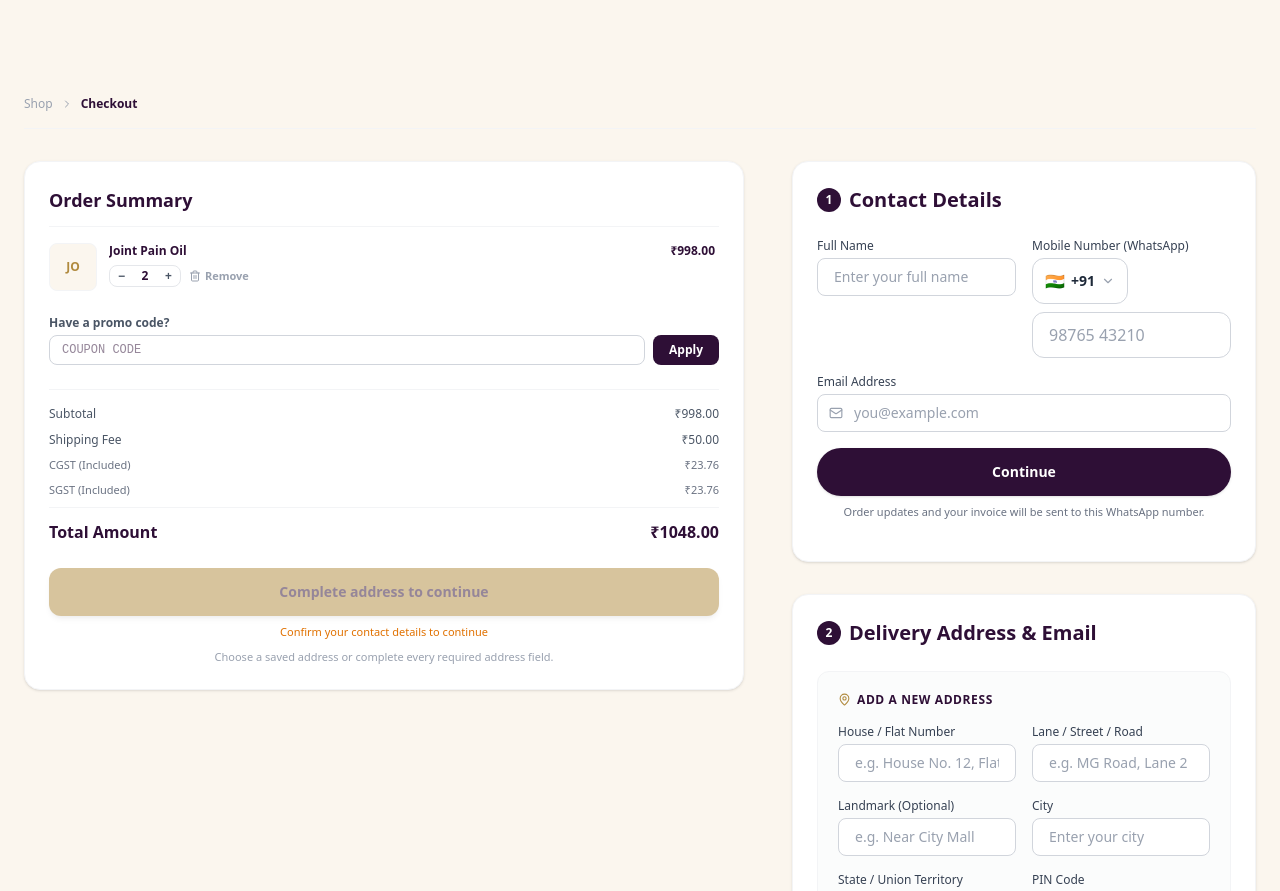
checkout — contact step verifies the number with a WhatsApp OTP › shows the server message when OTP verify fails
This screenshot has width=1280, height=891.
Expected: the button "Continue" is shown, [817,448,1231,496]
Type "Atharva Bhargava" into the field with placeholder "Enter your full name" at x=916, y=277, box [817,258,1016,296]
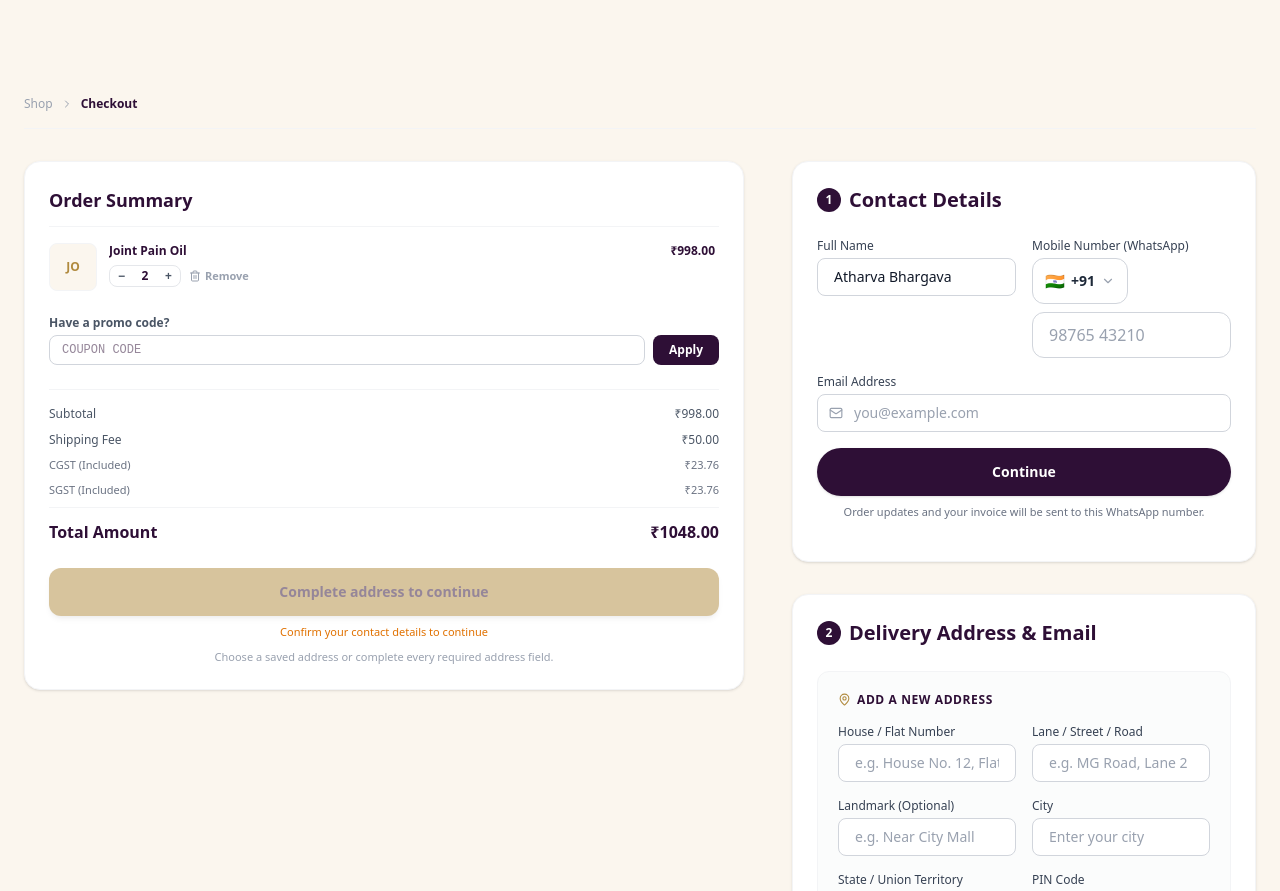
Type "9876543210" into the field with placeholder "98765 43210" at x=1132, y=335, box [1032,312,1231,358]
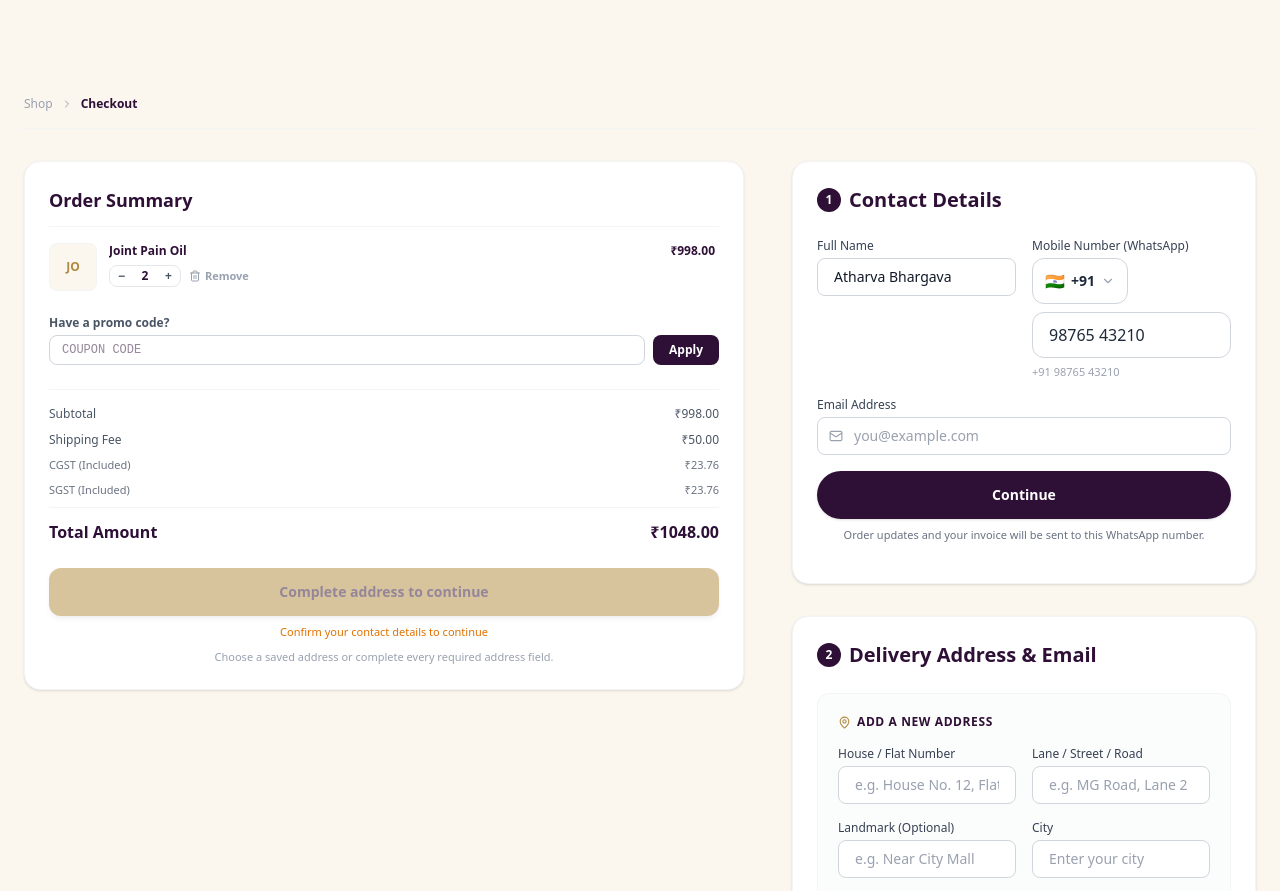
Type "atharva@example.com" into the field with id "checkout-contact-email" at x=1024, y=436, box [817,416,1231,454]
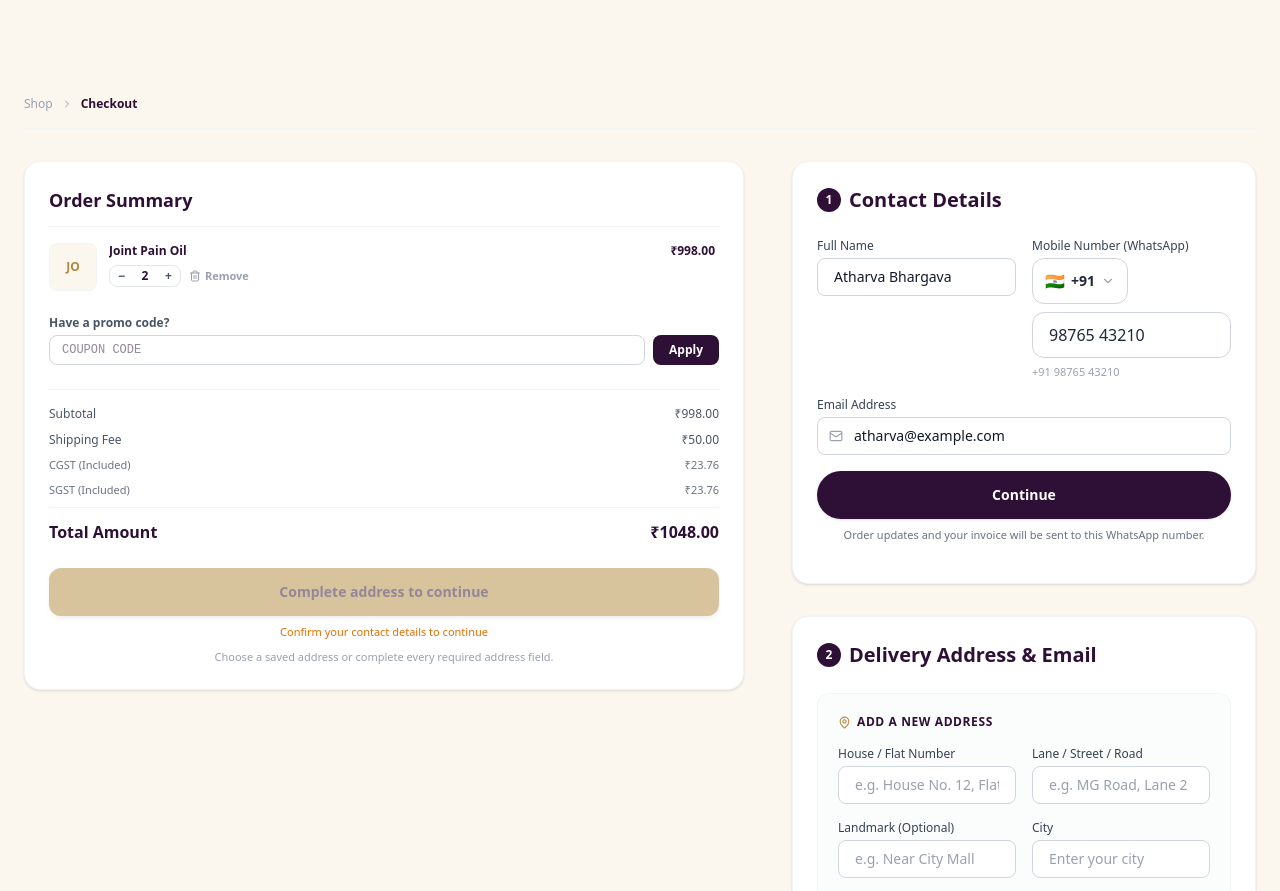
Click the button "Continue" at x=1024, y=494, box [817,470,1231,518]
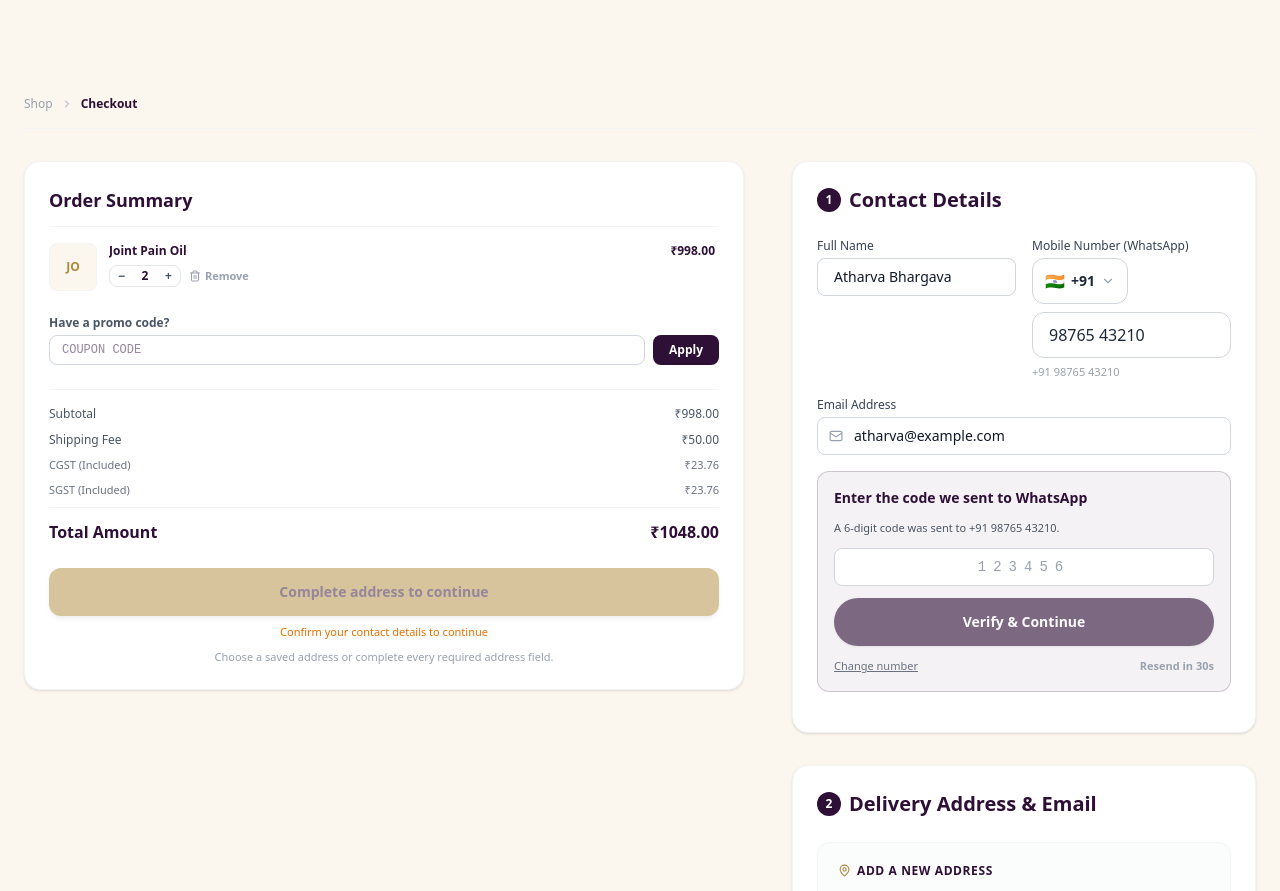
Now the field with id "checkout-otp" is shown
Type "999999" into the field with id "checkout-otp" at x=1024, y=567, box [834,548,1214,586]
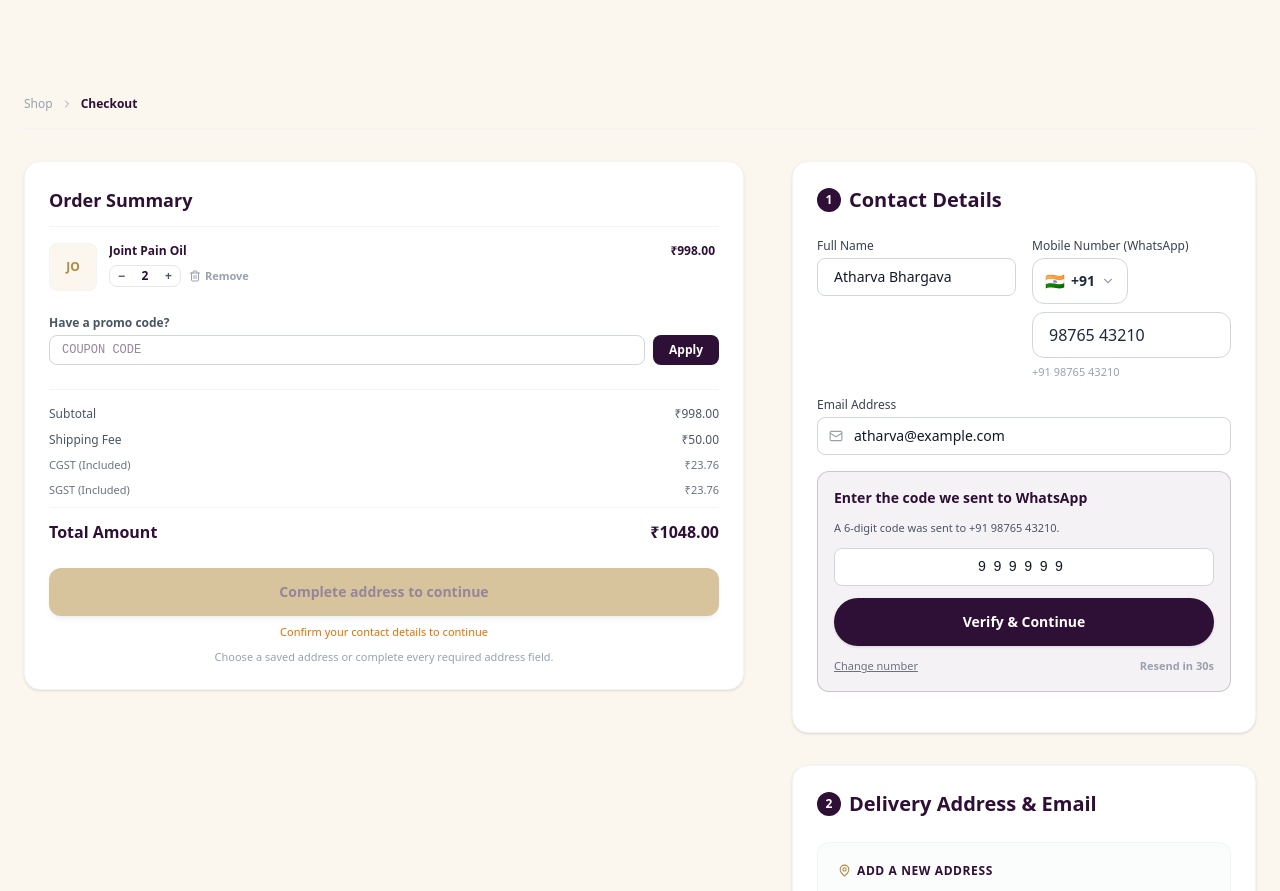
Click the button "Verify & Continue" at x=1024, y=622, box [834,598,1214,646]
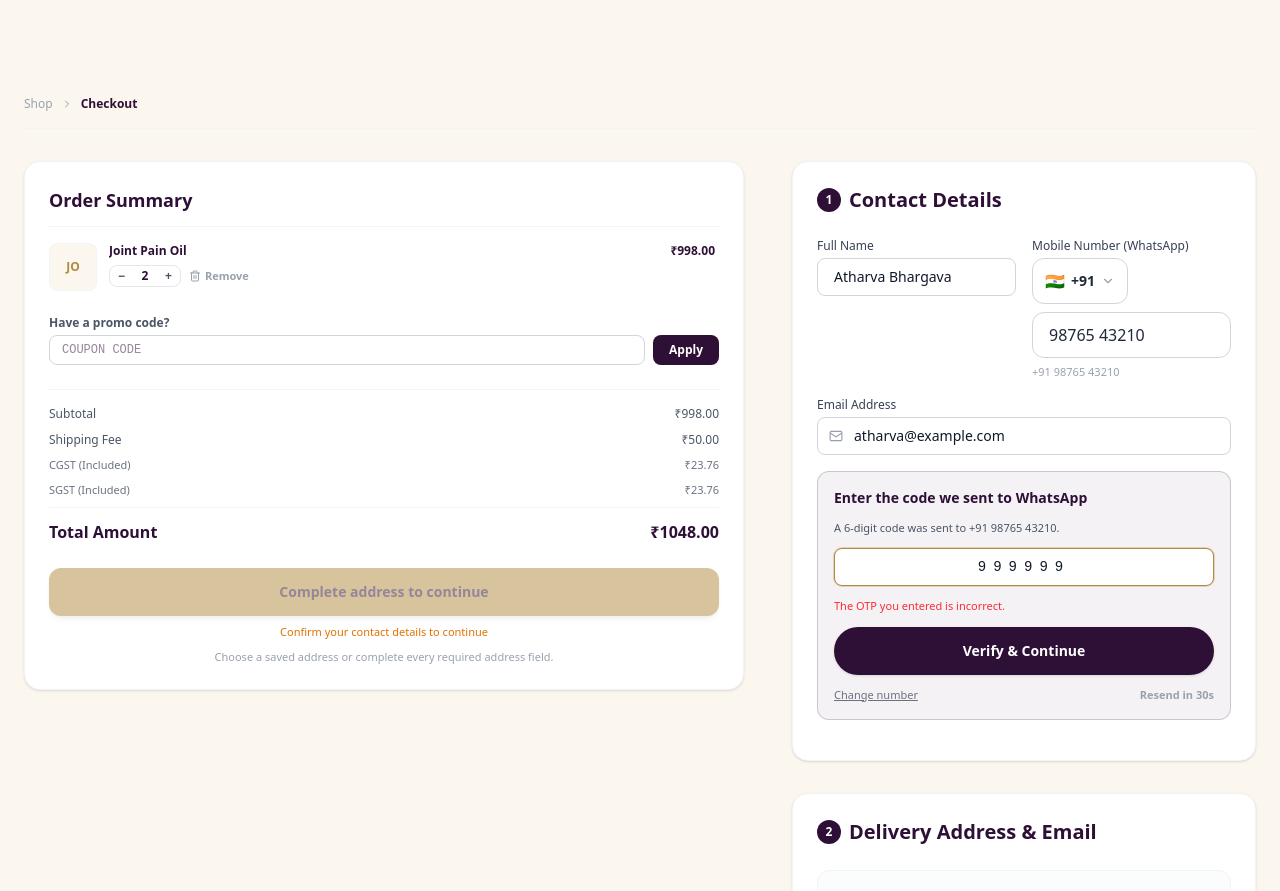
Now the text "The OTP you entered is incorrect." is shown, box [834,598,1005,613]
